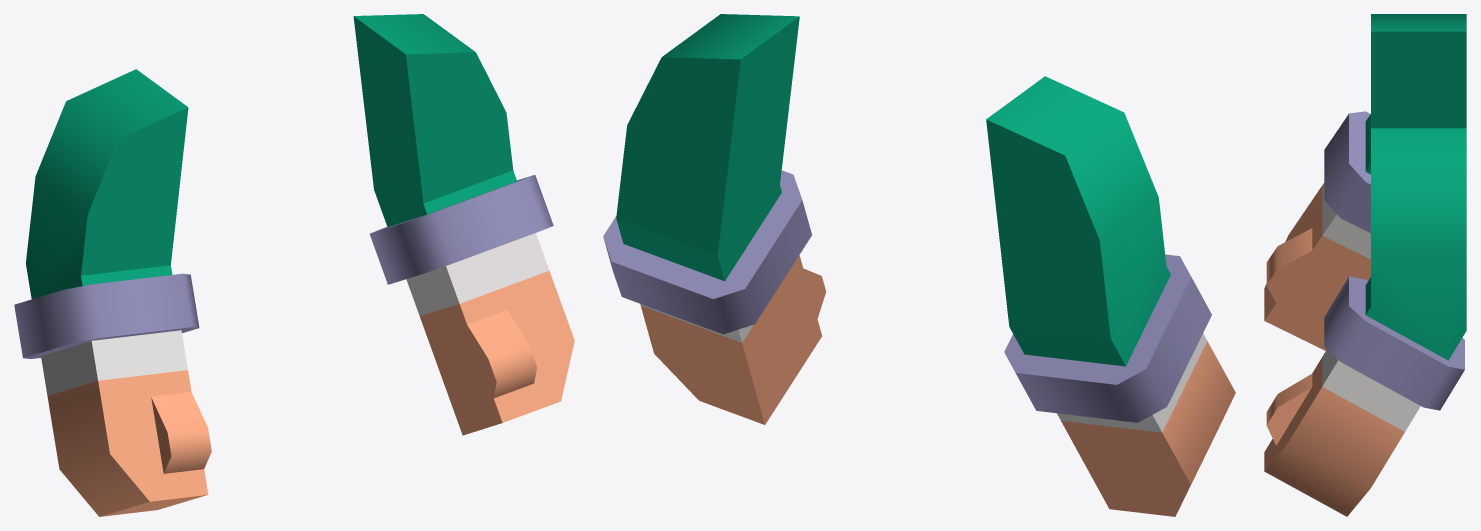
The model's file is MC_Arms.fbx.
3 views of the same model, side by side, from view 1: azimuth 30°, elevation 25°; view 2: azimuth 150°, elevation 25°; view 3: azimuth 270°, elevation 25° (orthographic). The views are drawn at different scales.
Parts seen in each view (by area): view 1: arm_sleeve (×2); view 2: arm_sleeve (×2); view 3: arm_sleeve (×2).
Boxes of the visible parts, x1,y1,x2,y2 form: arm_sleeve (×2): (14, 14, 574, 516); arm_sleeve (×2): (603, 14, 1235, 516); arm_sleeve (×2): (1264, 14, 1466, 516).
Size of the model in its own units: 5.42 by 4.04 by 2.12.
